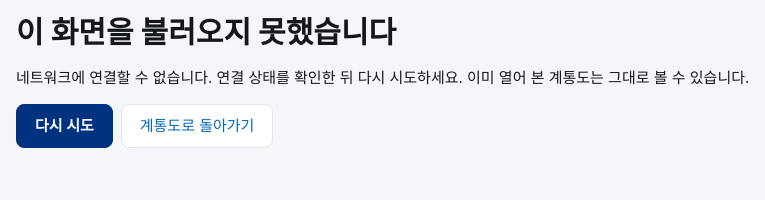
Test: B10 오프라인·청크 로드 실패 안내 › 아직 오프라인이면 다시 시도해도 새로고침하지 않고 안내
Click the button with test id "page-error-retry". click: click(64, 126)
box: 16,104 -> 113,148
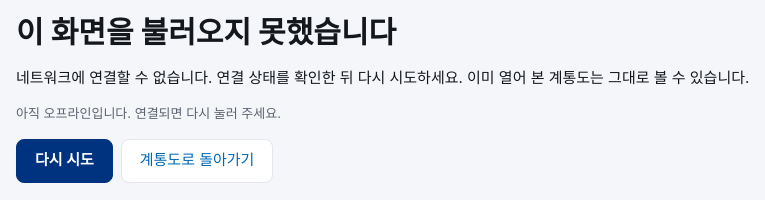
Result: the message with test id "page-error" shows "아직 오프라인입니다" at 16,105 -> 281,121
